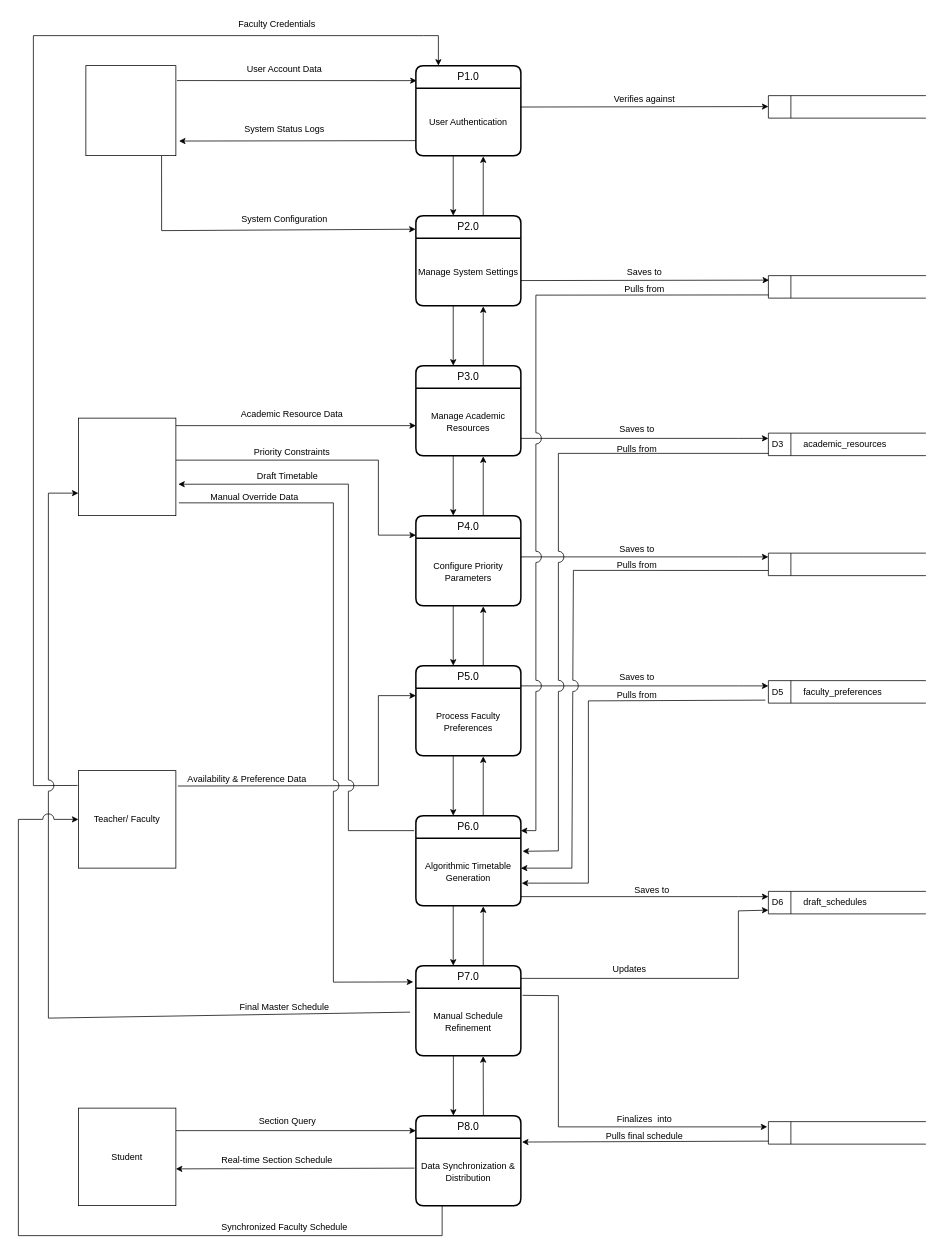
The diagram is 939 pixels wide and 1255 high, and some of its shapes have lost their labels. Here are the shapes that lost their labels. From the top down, the centre of each, then its label:
the point at 130,110: System Administrator
the point at 847,106: D1 user_accounts
the point at 847,286: D2 system_settings
the point at 127,466: Academic Scheduler
the point at 847,564: D4 constraint_parameters
the point at 847,1132: D7 master_schedule
